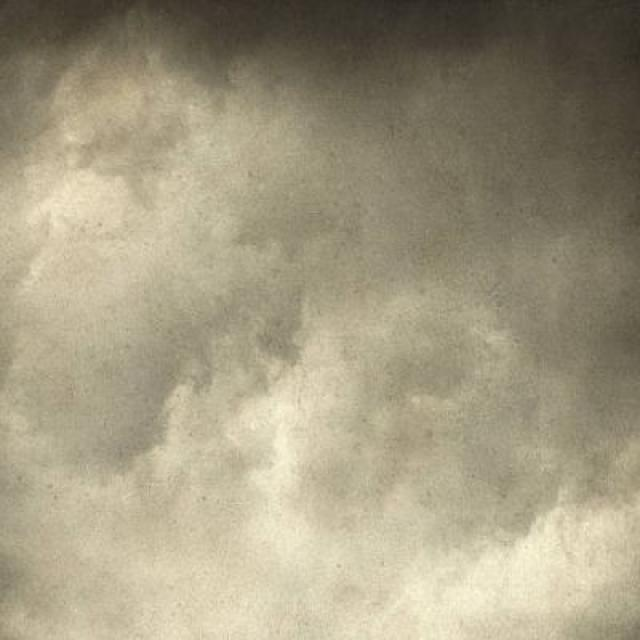As: (1, 48, 640, 561)
